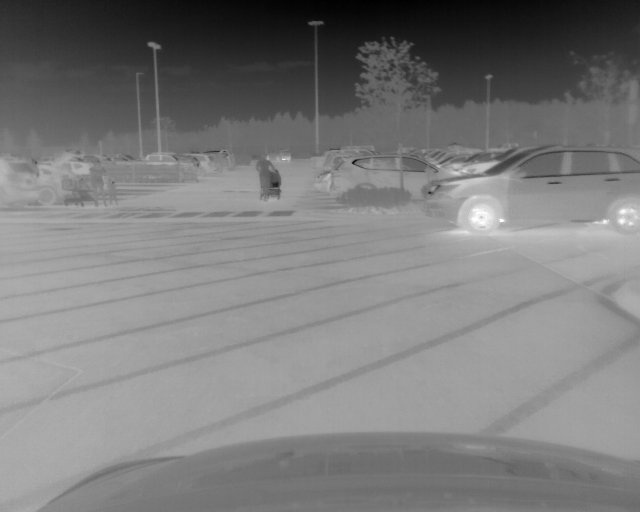car: (419, 144, 640, 235), (331, 152, 461, 201), (1, 156, 42, 210), (37, 165, 76, 209), (144, 152, 195, 181), (194, 153, 217, 179), (266, 148, 292, 163)
people: (256, 153, 278, 202), (90, 159, 108, 206), (105, 160, 118, 204)
